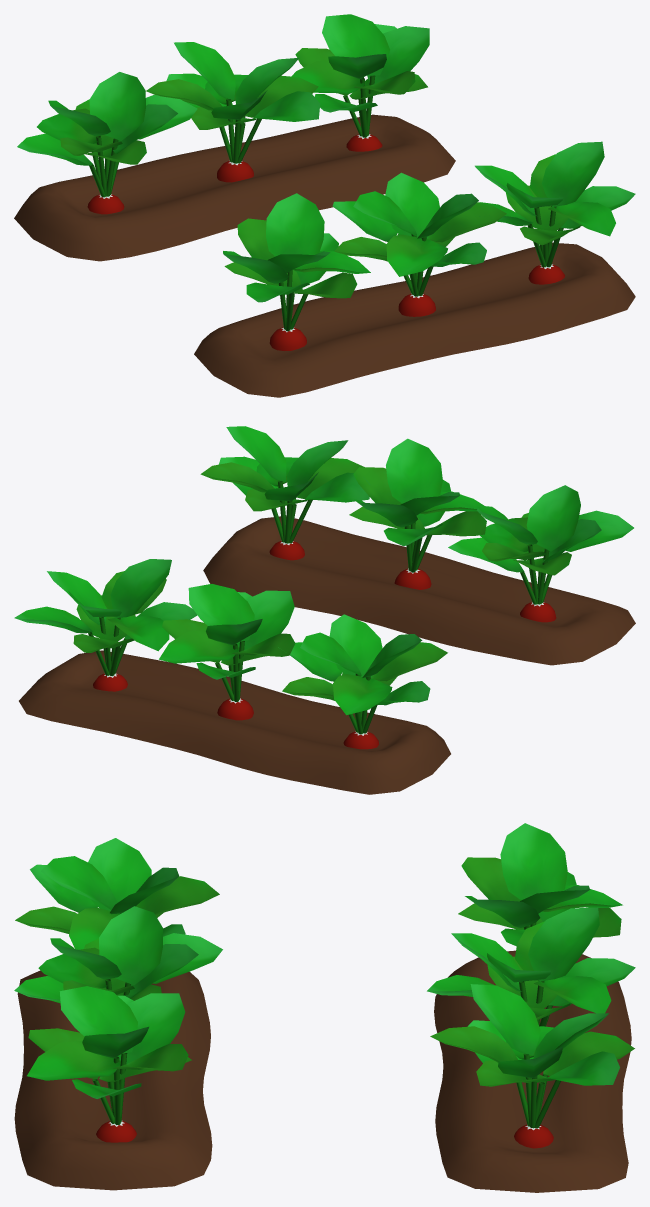
File: Beetroot4.fbx
The picture shows the model from 3 angles, top to bottom: view 1: azimuth 30°, elevation 25°; view 2: azimuth 150°, elevation 25°; view 3: azimuth 270°, elevation 25°; orthographic projection. The views are drawn at different scales.
Parts seen in each view (by area): view 1: 4; view 2: 4; view 3: 4.
Boxes of the visible parts, x1=… form: 4: x1=14, y1=14, x2=635, y2=397; 4: x1=14, y1=426, x2=635, y2=794; 4: x1=14, y1=823, x2=635, y2=1192.
Size of the model in its own units: 276 by 85.6 by 312.
